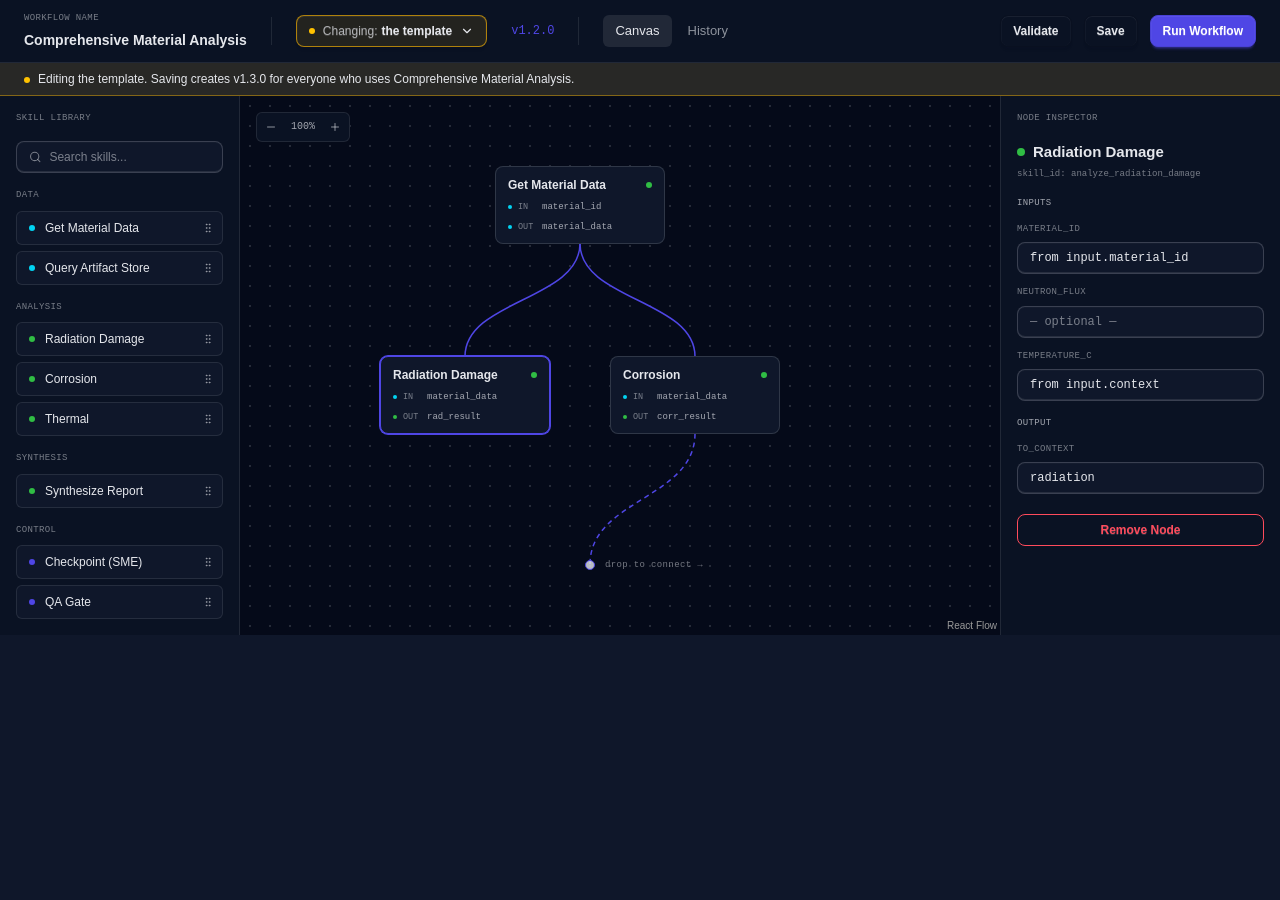
Test: with unsaved structural changes, switching to this run asks first, and Keep editing stays
Click the button "Changing: the template". click: (392, 31)
box: [296,15,487,47]
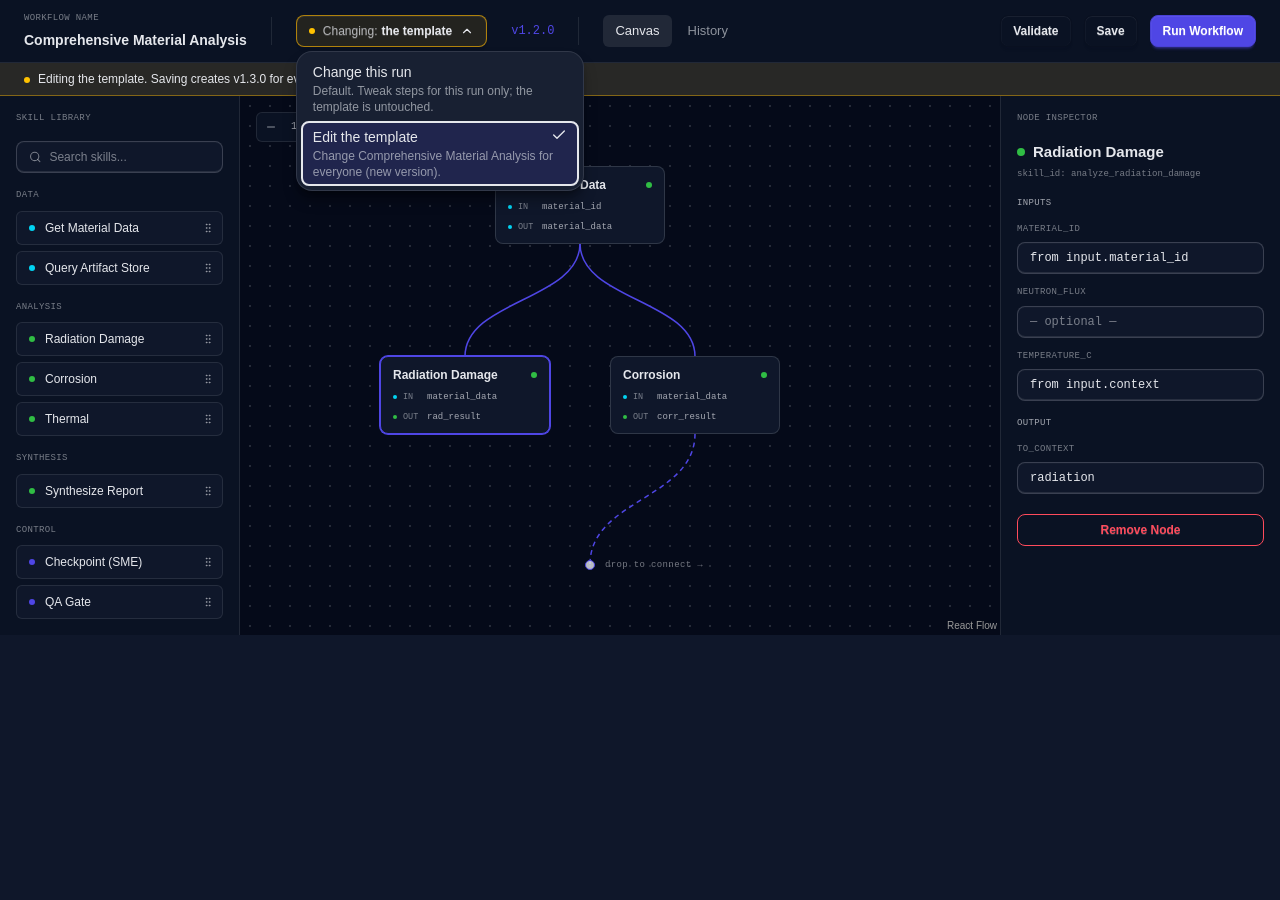
Click the menu item "Change this run". click: (440, 88)
box: [301,56,579,121]
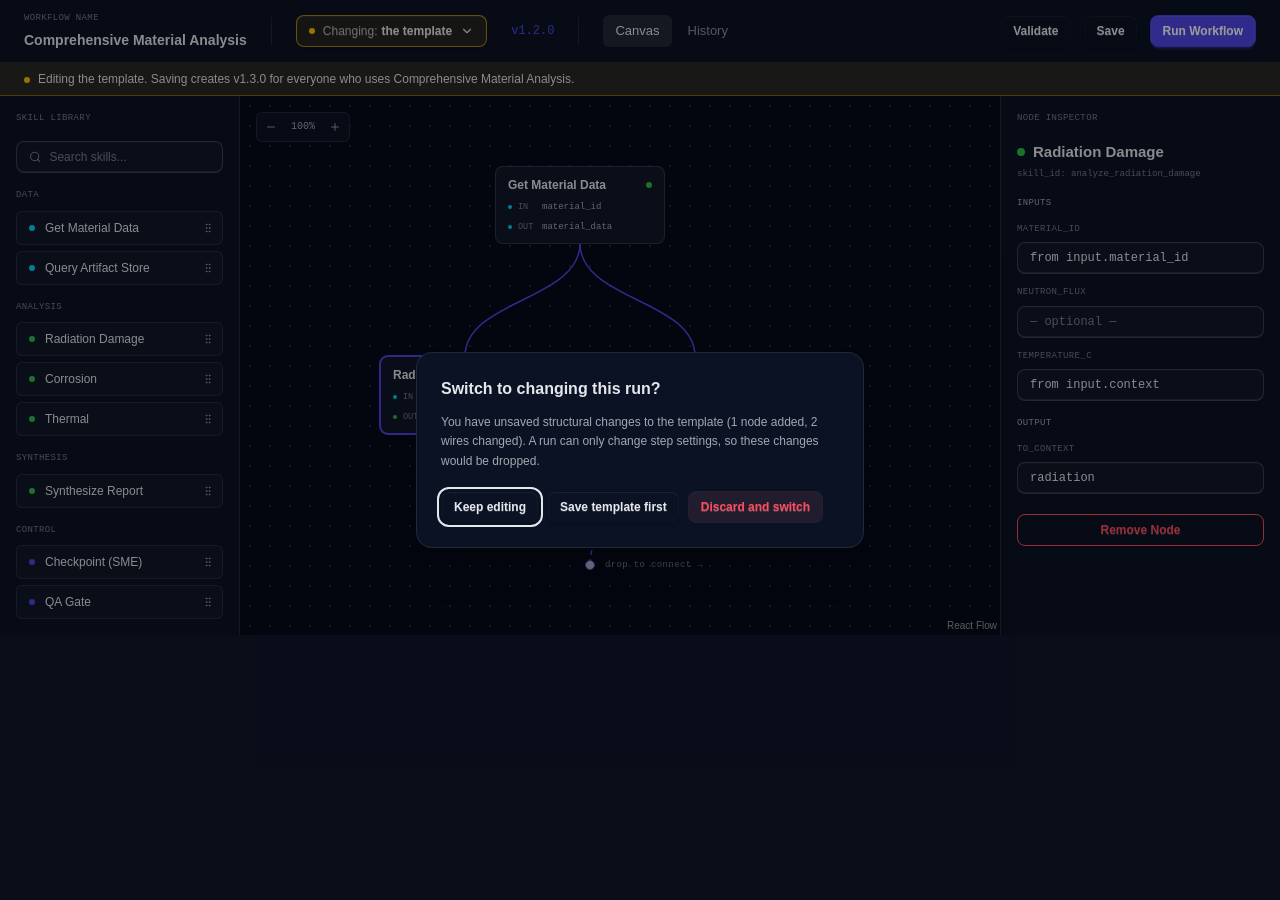
Check: the buttons read "Keep editing", "Save template first", "Discard and switch", "close", in this order
Click the button "Keep editing". click: (490, 507)
box: [441,491,539,523]
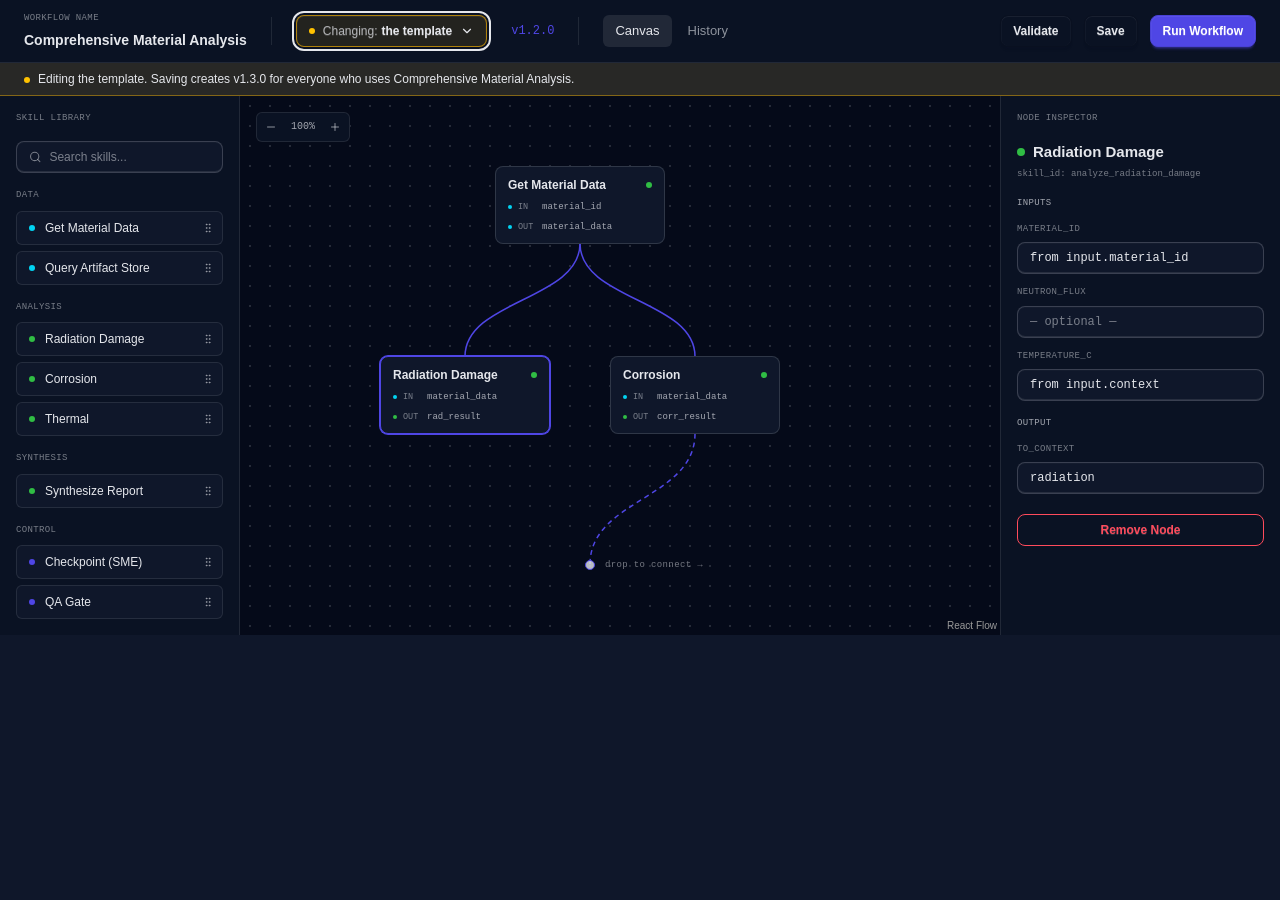
Check: the button "Changing: the template" is shown, box [296,15,487,47]
Check: the dialog is gone
